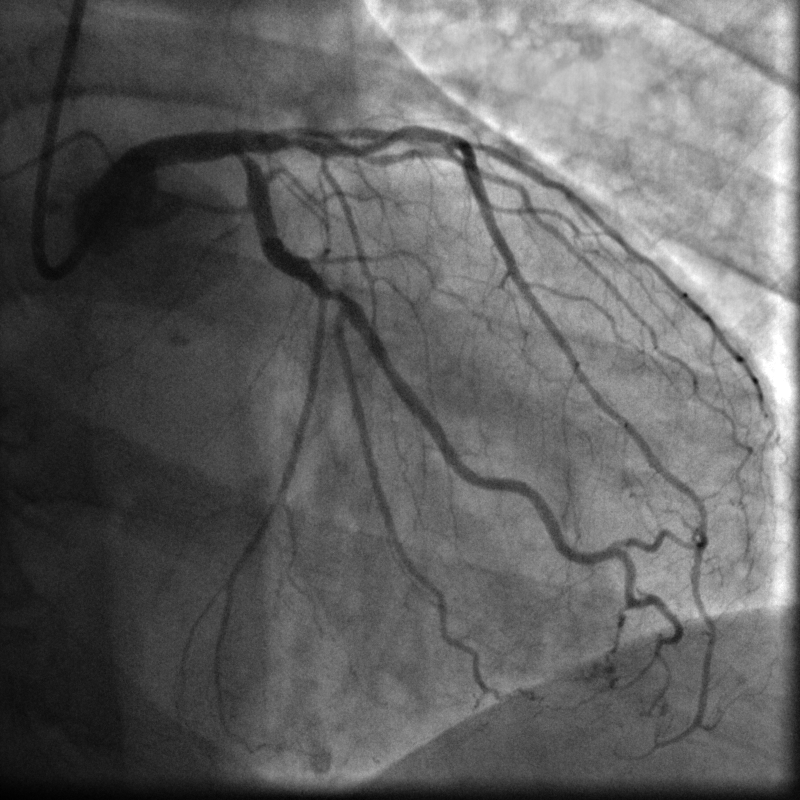Stenosis: (323, 283, 349, 306)
